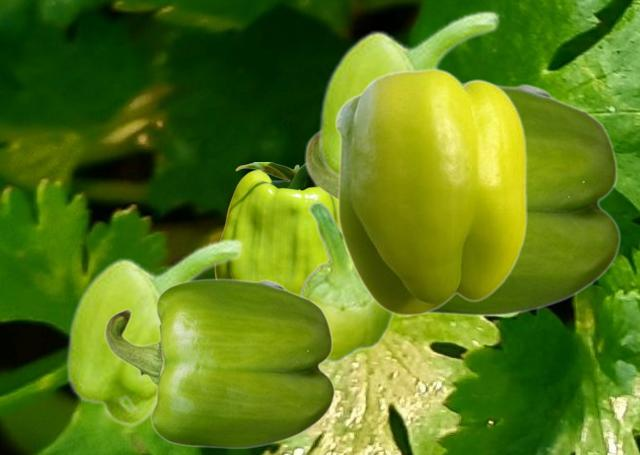bell_pepper: (304, 82, 620, 316), (334, 67, 526, 315), (104, 278, 334, 448), (65, 237, 244, 426), (317, 9, 500, 178), (214, 162, 336, 293), (297, 201, 394, 362)
